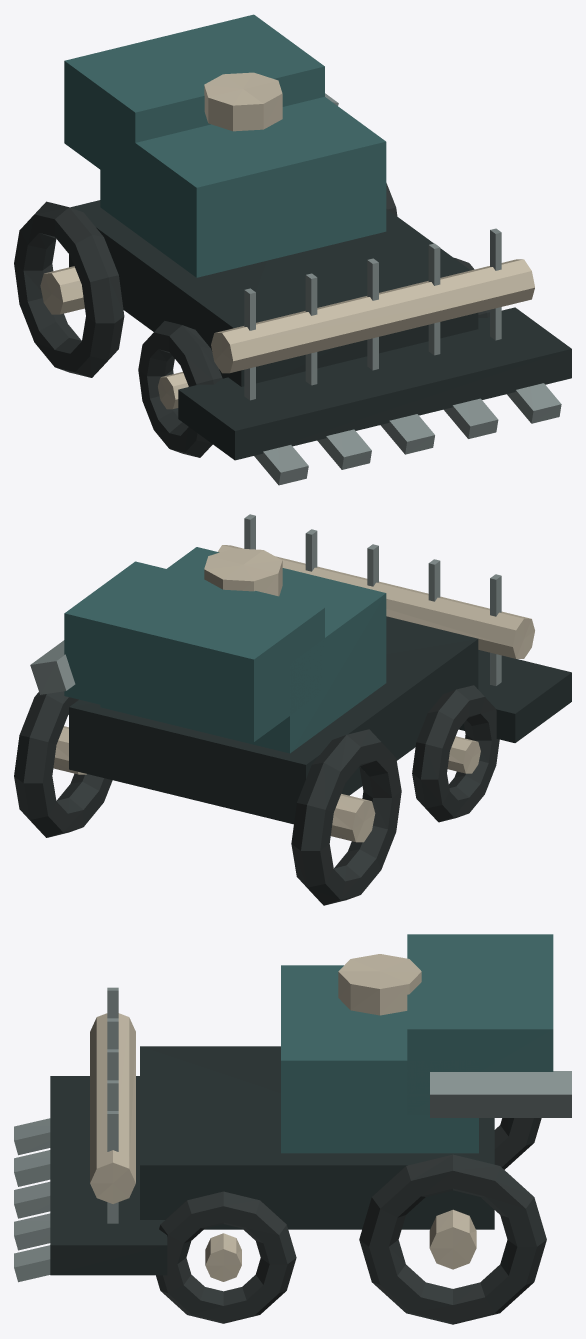
The model's file is robotic-harvester.source.glb.
3 renders of one model, top to bottom at view 1: azimuth 30°, elevation 25°; view 2: azimuth 150°, elevation 25°; view 3: azimuth 270°, elevation 25°, orthographic. The views are drawn at different scales.
Parts seen in each view (by area): view 1: robotic-harvester-unmanned-engine-cover-mesh, robotic-harvester-wide-cutter-bar-mesh, robotic-harvester-compact-rover-chassis-mesh, robotic-harvester-raised-grain-bin-mesh, robotic-harvester-reel-cylinder-mesh, robotic-harvester-rear-left-wheel-tire-mesh, robotic-harvester-front-left-wheel-tire-mesh, robotic-harvester-roof-lidar-mesh, robotic-harvester-rear-left-wheel-hub-mesh, robotic-harvester-cutter-tooth-0-mesh, robotic-harvester-cutter-tooth-0.72-mesh, robotic-harvester-cutter-tooth--0.36-mesh (+8 smaller); view 2: robotic-harvester-raised-grain-bin-mesh, robotic-harvester-compact-rover-chassis-mesh, robotic-harvester-unmanned-engine-cover-mesh, robotic-harvester-rear-left-wheel-tire-mesh, robotic-harvester-front-left-wheel-tire-mesh, robotic-harvester-rear-right-wheel-tire-mesh, robotic-harvester-reel-cylinder-mesh, robotic-harvester-wide-cutter-bar-mesh, robotic-harvester-roof-lidar-mesh, robotic-harvester-rear-left-wheel-hub-mesh, robotic-harvester-short-discharge-chute-mesh, robotic-harvester-front-left-wheel-hub-mesh (+4 smaller); view 3: robotic-harvester-compact-rover-chassis-mesh, robotic-harvester-unmanned-engine-cover-mesh, robotic-harvester-raised-grain-bin-mesh, robotic-harvester-rear-right-wheel-tire-mesh, robotic-harvester-wide-cutter-bar-mesh, robotic-harvester-front-right-wheel-tire-mesh, robotic-harvester-reel-cylinder-mesh, robotic-harvester-short-discharge-chute-mesh, robotic-harvester-roof-lidar-mesh, robotic-harvester-rear-right-wheel-hub-mesh, robotic-harvester-rear-left-wheel-tire-mesh, robotic-harvester-front-right-wheel-hub-mesh (+6 smaller).
Part boxes in pixels (left/top/right/bottom): robotic-harvester-unmanned-engine-cover-mesh: left=100, top=97, right=386, bottom=277; robotic-harvester-wide-cutter-bar-mesh: left=178, top=307, right=571, bottom=460; robotic-harvester-compact-rover-chassis-mesh: left=69, top=200, right=478, bottom=386; robotic-harvester-raised-grain-bin-mesh: left=64, top=14, right=324, bottom=192; robotic-harvester-reel-cylinder-mesh: left=211, top=259, right=534, bottom=373; robotic-harvester-rear-left-wheel-tire-mesh: left=14, top=201, right=124, bottom=377; robotic-harvester-front-left-wheel-tire-mesh: left=138, top=321, right=222, bottom=457; robotic-harvester-roof-lidar-mesh: left=204, top=72, right=282, bottom=131; robotic-harvester-rear-left-wheel-hub-mesh: left=40, top=266, right=84, bottom=314; robotic-harvester-cutter-tooth-0-mesh: left=380, top=414, right=434, bottom=454; robotic-harvester-cutter-tooth-0.72-mesh: left=507, top=383, right=561, bottom=423; robotic-harvester-cutter-tooth--0.36-mesh: left=317, top=429, right=371, bottom=469; robotic-harvester-raised-grain-bin-mesh: left=64, top=561, right=324, bottom=741; robotic-harvester-compact-rover-chassis-mesh: left=69, top=616, right=478, bottom=824; robotic-harvester-unmanned-engine-cover-mesh: left=100, top=547, right=386, bottom=753; robotic-harvester-rear-left-wheel-tire-mesh: left=291, top=729, right=401, bottom=905; robotic-harvester-front-left-wheel-tire-mesh: left=412, top=685, right=499, bottom=822; robotic-harvester-rear-right-wheel-tire-mesh: left=14, top=691, right=112, bottom=837; robotic-harvester-reel-cylinder-mesh: left=217, top=545, right=534, bottom=658; robotic-harvester-wide-cutter-bar-mesh: left=459, top=650, right=571, bottom=742; robotic-harvester-roof-lidar-mesh: left=204, top=548, right=282, bottom=596; robotic-harvester-rear-left-wheel-hub-mesh: left=330, top=794, right=375, bottom=842; robotic-harvester-short-discharge-chute-mesh: left=30, top=640, right=75, bottom=694; robotic-harvester-front-left-wheel-hub-mesh: left=447, top=736, right=480, bottom=773; robotic-harvester-compact-rover-chassis-mesh: left=140, top=1046, right=494, bottom=1229; robotic-harvester-unmanned-engine-cover-mesh: left=281, top=965, right=478, bottom=1153; robotic-harvester-raised-grain-bin-mesh: left=407, top=934, right=553, bottom=1114; robotic-harvester-rear-right-wheel-tire-mesh: left=359, top=1154, right=546, bottom=1324; robotic-harvester-wide-cutter-bar-mesh: left=50, top=1076, right=167, bottom=1275; robotic-harvester-front-right-wheel-tire-mesh: left=156, top=1191, right=296, bottom=1323; robotic-harvester-reel-cylinder-mesh: left=90, top=1013, right=135, bottom=1203; robotic-harvester-short-discharge-chute-mesh: left=430, top=1071, right=571, bottom=1117; robotic-harvester-roof-lidar-mesh: left=338, top=954, right=421, bottom=1015; robotic-harvester-rear-right-wheel-hub-mesh: left=429, top=1209, right=476, bottom=1269; robotic-harvester-rear-left-wheel-tire-mesh: left=494, top=1118, right=541, bottom=1169; robotic-harvester-front-right-wheel-hub-mesh: left=205, top=1233, right=241, bottom=1281.
Size of the model in its own units: 1.92 by 1.5 by 2.67.
